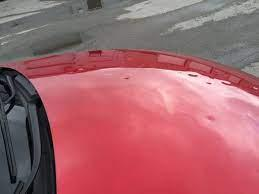bonnet-dent: (1, 47, 258, 165)
